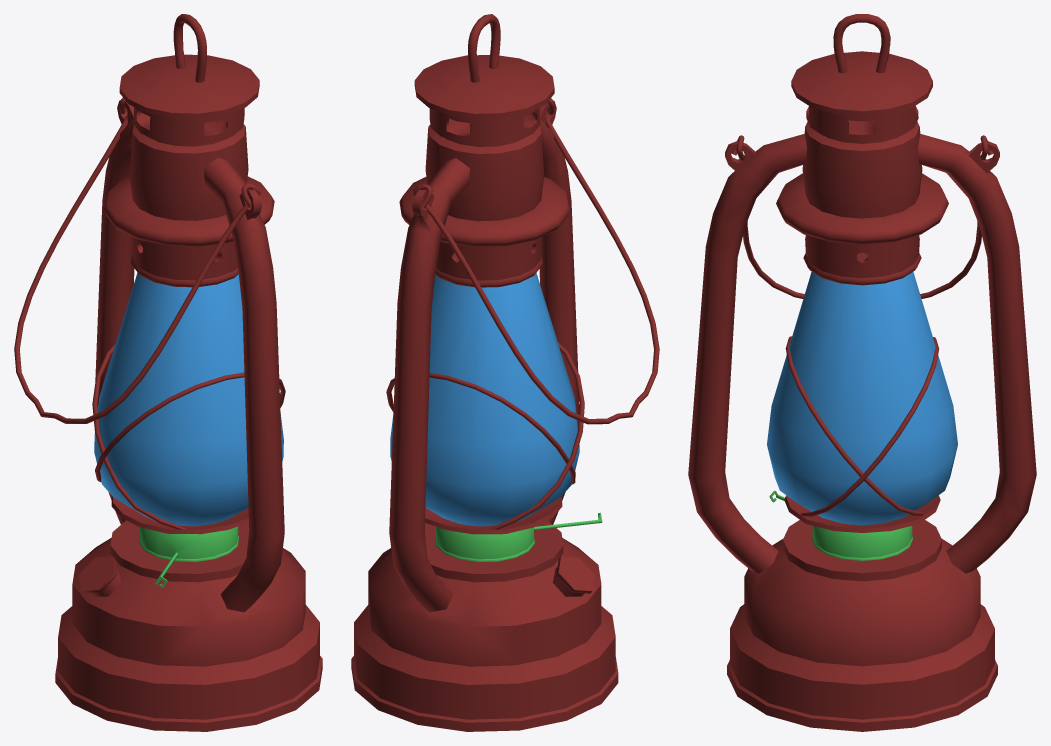
The model's file is Prop_Lamp_Fabi_M.fbx.
3 views of the same model, side by side, from view 1: azimuth 30°, elevation 25°; view 2: azimuth 150°, elevation 25°; view 3: azimuth 270°, elevation 25° (orthographic).
Parts seen in each view (by area): view 1: ALS_Lamp; view 2: ALS_Lamp; view 3: ALS_Lamp.
Boxes of the visible parts, x1,y1,x2,y2 form: ALS_Lamp: [14, 14, 322, 731]; ALS_Lamp: [351, 14, 659, 731]; ALS_Lamp: [688, 14, 1036, 731].
Bounding box in the file's own units: 14.05 × 33.32 × 15.92.
